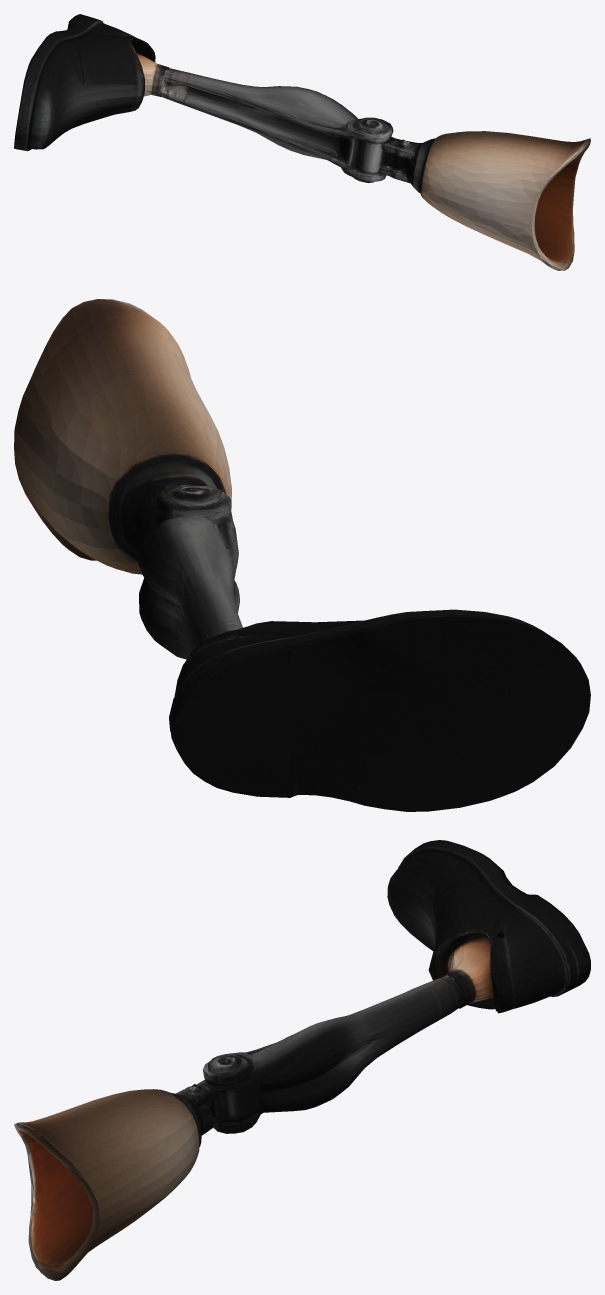
The model's file is titanio.fbx.
The picture shows the model from 3 angles, top to bottom: view 1: azimuth 30°, elevation 25°; view 2: azimuth 150°, elevation 25°; view 3: azimuth 270°, elevation 25°; orthographic projection. The views are drawn at different scales.
Parts seen in each view (by area): view 1: geometry_0.001; view 2: geometry_0.001; view 3: geometry_0.001.
Boxes of the visible parts, x1,y1,x2,y2 form: geometry_0.001: [14, 14, 590, 270]; geometry_0.001: [14, 299, 590, 811]; geometry_0.001: [14, 840, 590, 1280].
Size of the model in its own units: 0.4503 by 0.1826 by 0.4288.
1 material, 1 textured.
